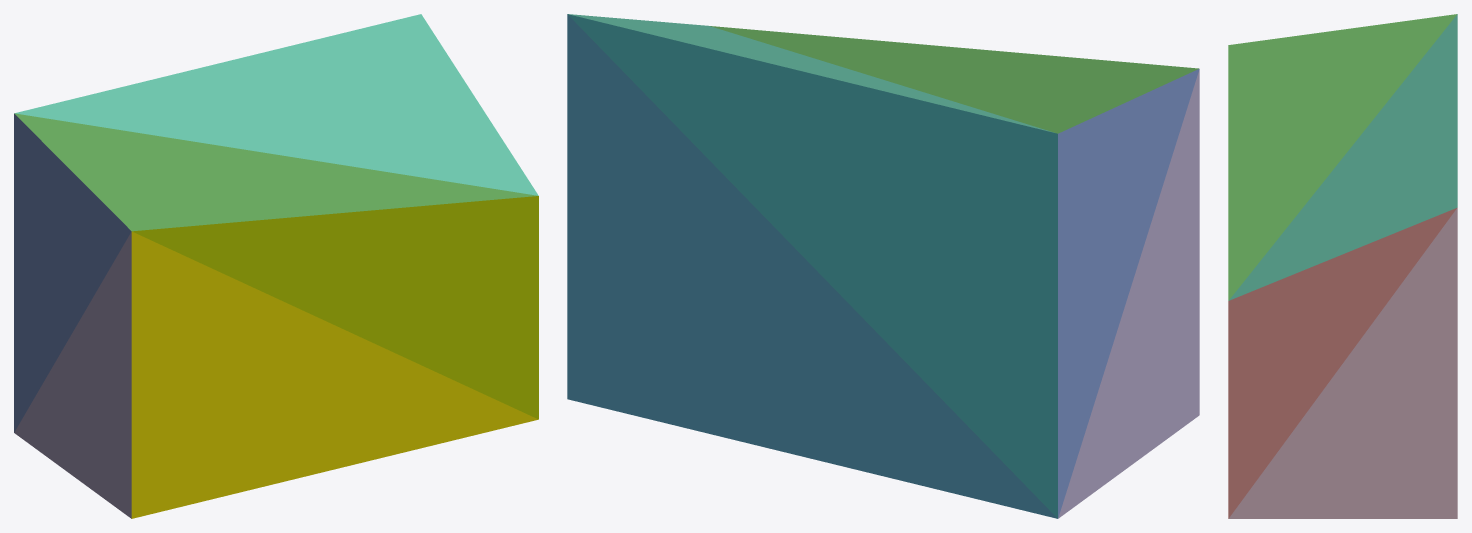
File: cube_dented_scaled_nonuniform.gltf
3 views of the same model, side by side, from view 1: azimuth 30°, elevation 25°; view 2: azimuth 150°, elevation 25°; view 3: azimuth 270°, elevation 25° (orthographic). The views are drawn at different scales.
Visible parts, largest first — view 1: Cube.002; view 2: Cube.002; view 3: Cube.002.
Boxes of the visible parts, box(x1,y1,x2,y2) form: Cube.002: box(14, 14, 538, 518); Cube.002: box(567, 14, 1199, 518); Cube.002: box(1228, 14, 1457, 518).
Bounding box in the file's own units: 2 × 1.5 × 1.
